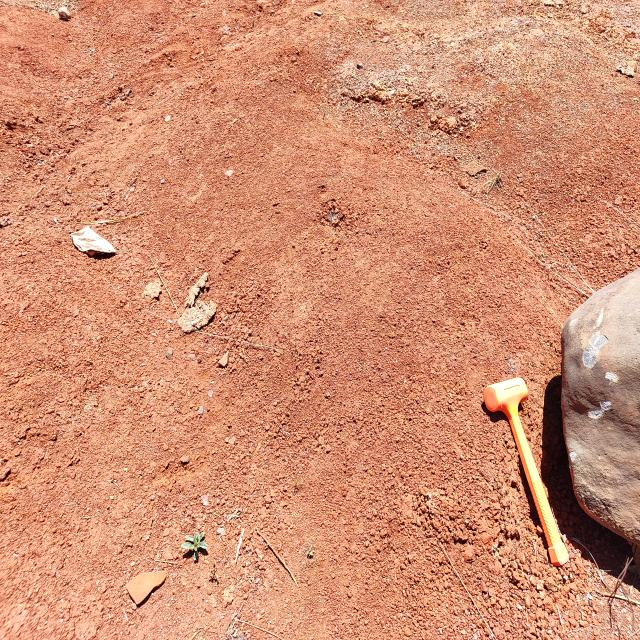Orange_hammer: (483, 376, 569, 566)
